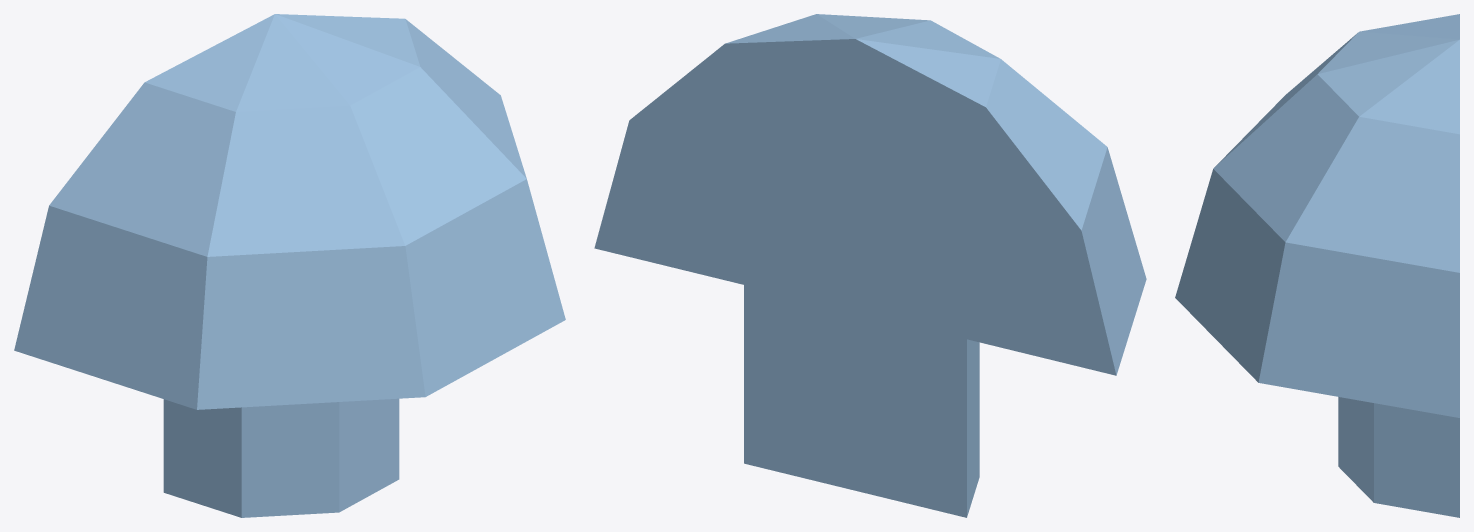
File: middleRightSilverMushroom.gltf
3 views of the same model, side by side, from view 1: azimuth 30°, elevation 25°; view 2: azimuth 150°, elevation 25°; view 3: azimuth 270°, elevation 25° (orthographic). The views are drawn at different scales.
Parts seen in each view (by area): view 1: MiddleRightSilverMushroom; view 2: MiddleRightSilverMushroom; view 3: MiddleRightSilverMushroom.
Part boxes in pixels (x1,y1,x2,y2): MiddleRightSilverMushroom: [14, 14, 565, 517]; MiddleRightSilverMushroom: [594, 14, 1146, 517]; MiddleRightSilverMushroom: [1175, 14, 1459, 517].
Size of what is drawn, in the model's own units: 1.13 by 0.9363 by 0.5661.
